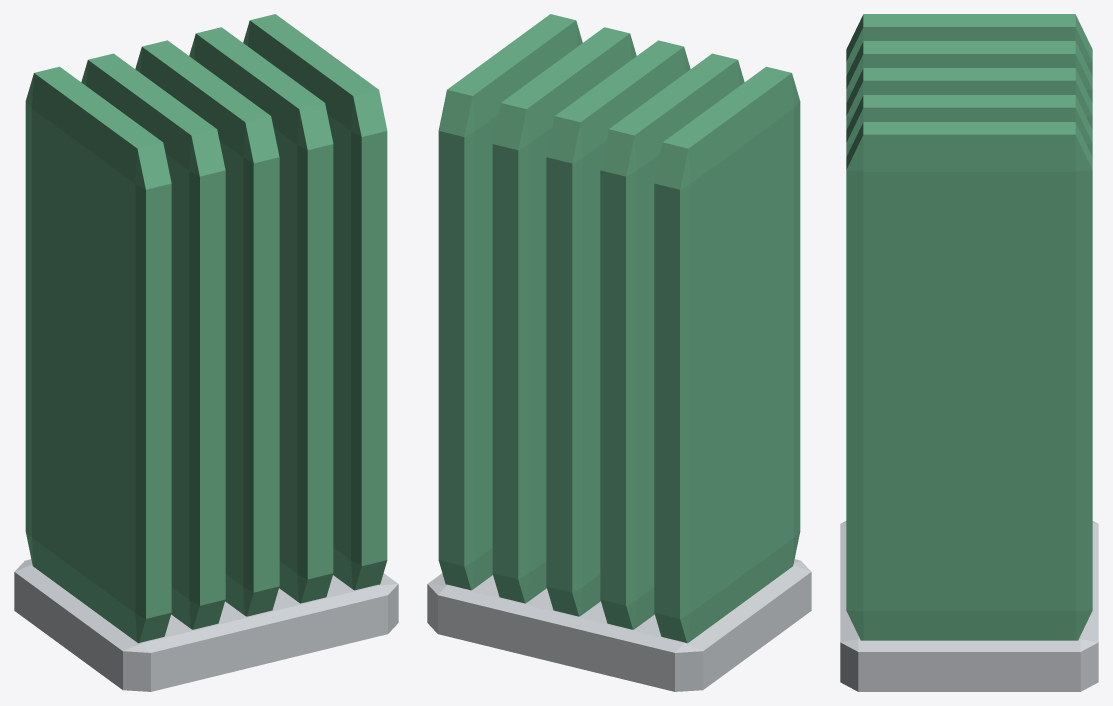
File: b01_vertical_bicycle_parking_stand.glb
3 views of the same model, side by side, from view 1: azimuth 30°, elevation 25°; view 2: azimuth 150°, elevation 25°; view 3: azimuth 270°, elevation 25° (orthographic). The views are drawn at different scales.
Visible parts, largest first — view 1: b01_vertical_bicycle_parking_stand; view 2: b01_vertical_bicycle_parking_stand; view 3: b01_vertical_bicycle_parking_stand.
Part boxes in pixels (bbox=[...]): b01_vertical_bicycle_parking_stand: bbox=[14, 14, 398, 691]; b01_vertical_bicycle_parking_stand: bbox=[427, 14, 811, 691]; b01_vertical_bicycle_parking_stand: bbox=[840, 14, 1098, 691].
Bounding box in the file's own units: 1.01 × 1.89 × 0.8.
